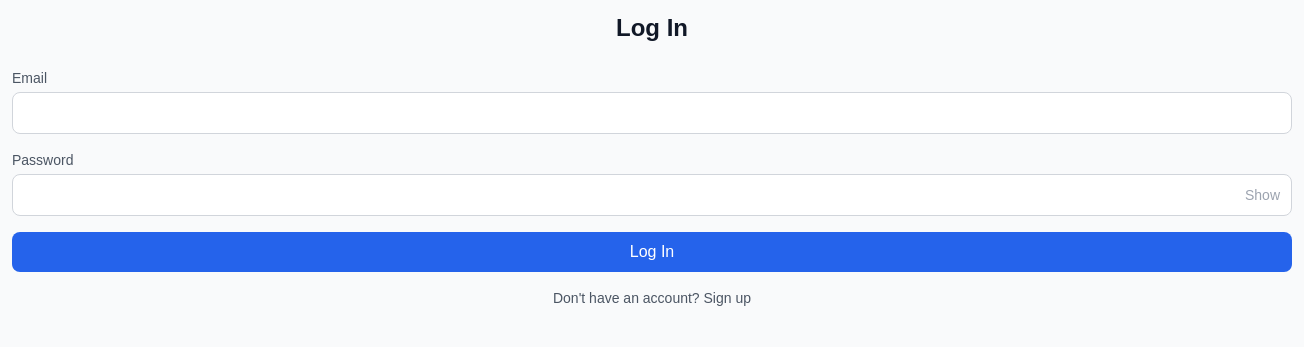
Scenario: LoginPage › requires a password before submitting
The image size is (1304, 347).
Type "claimant@demo.com" into the field labelled "Email" at (652, 113), box top-left (12, 92), bottom-right (1292, 134)
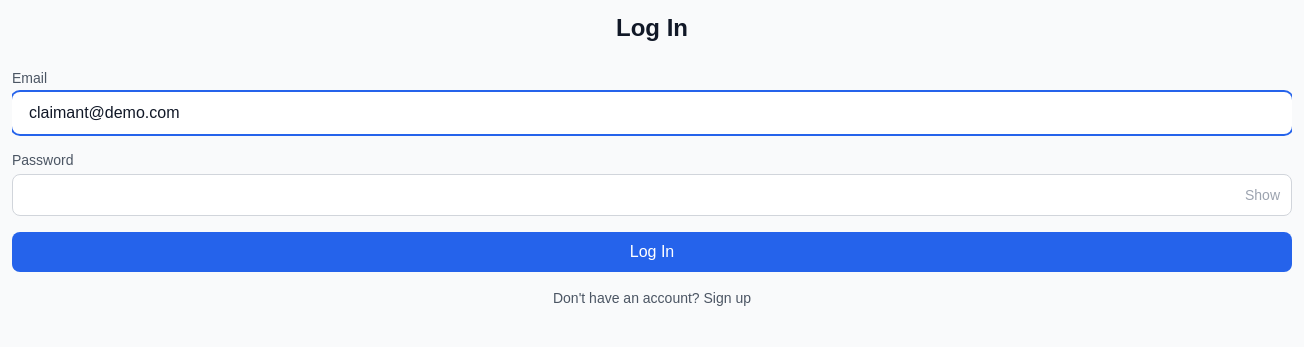
Click the button "Log In" at (652, 252), box top-left (12, 232), bottom-right (1292, 272)
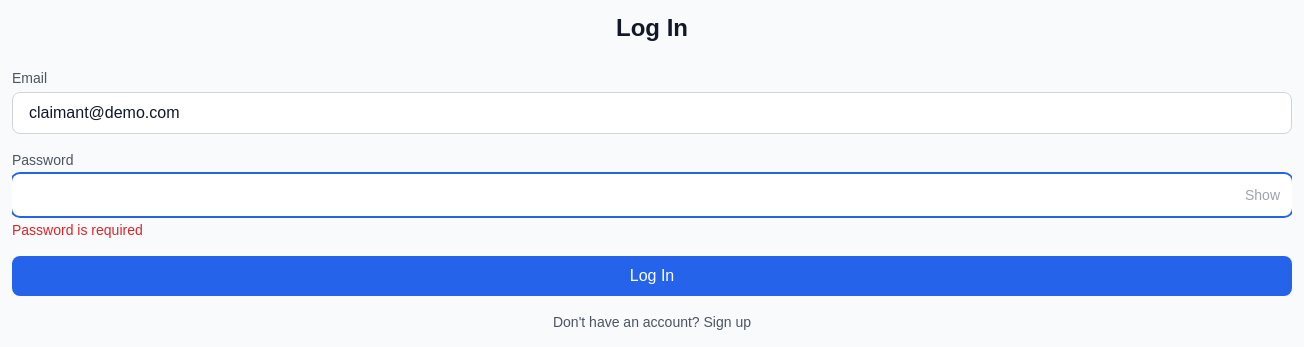
Expected: the text "Password is required" is shown, top-left (12, 222), bottom-right (143, 238)
